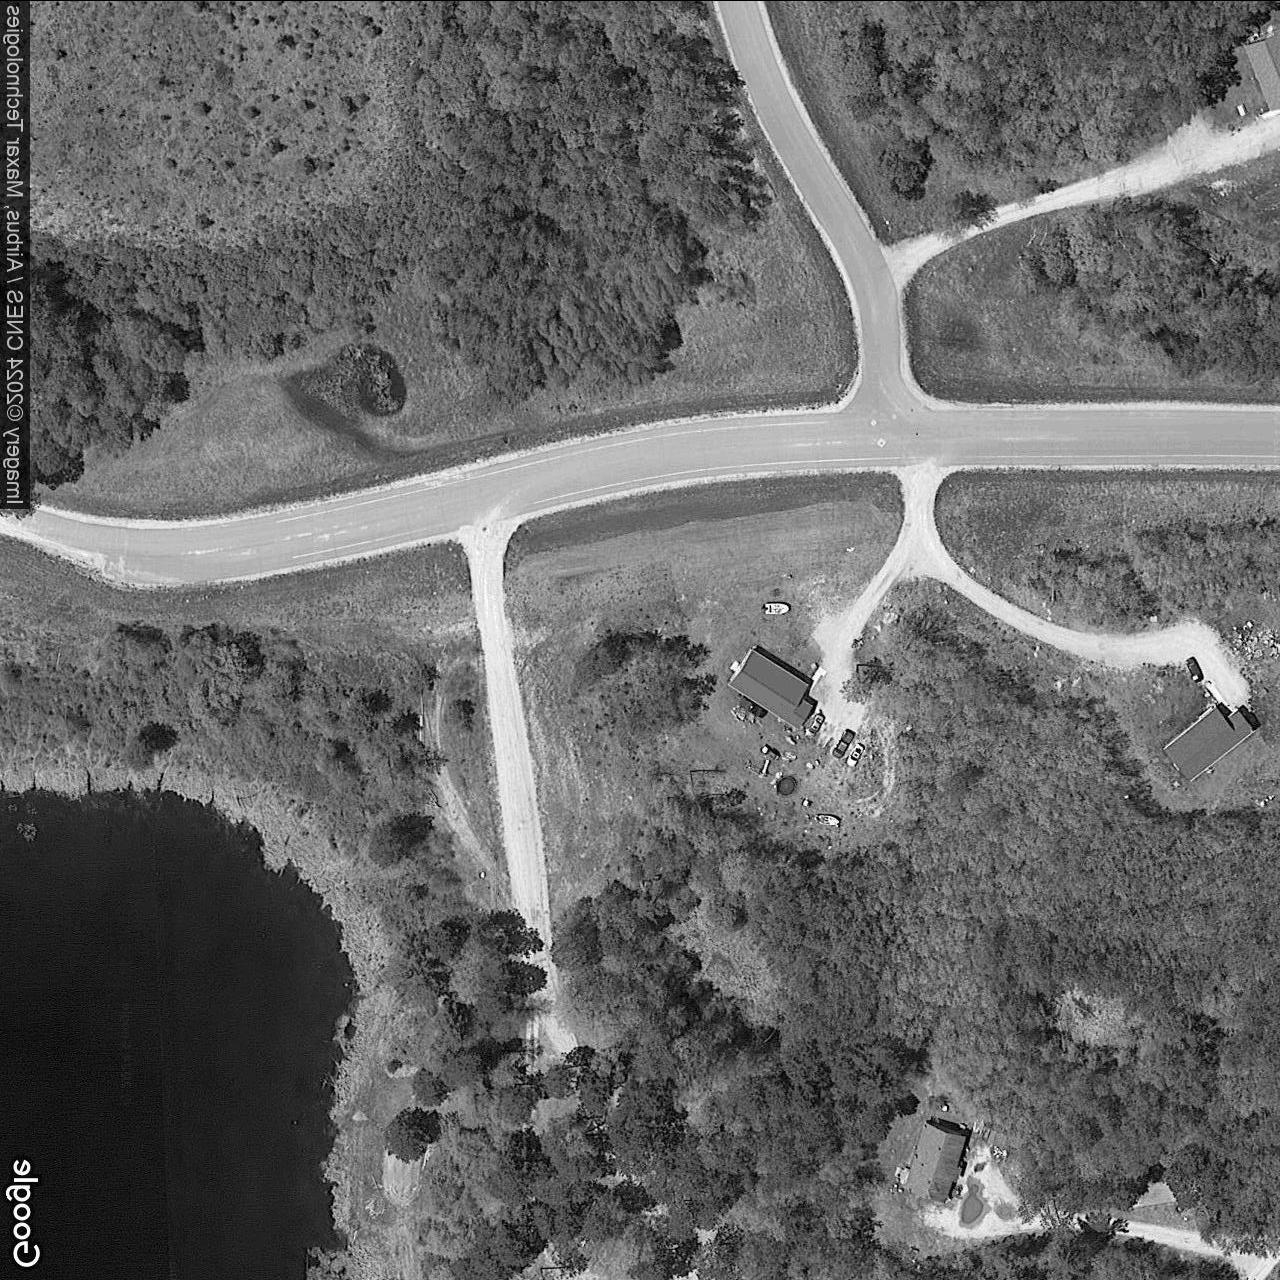House: (1162, 703, 1258, 783), (727, 647, 815, 729), (904, 1118, 969, 1204), (1242, 32, 1279, 110)
